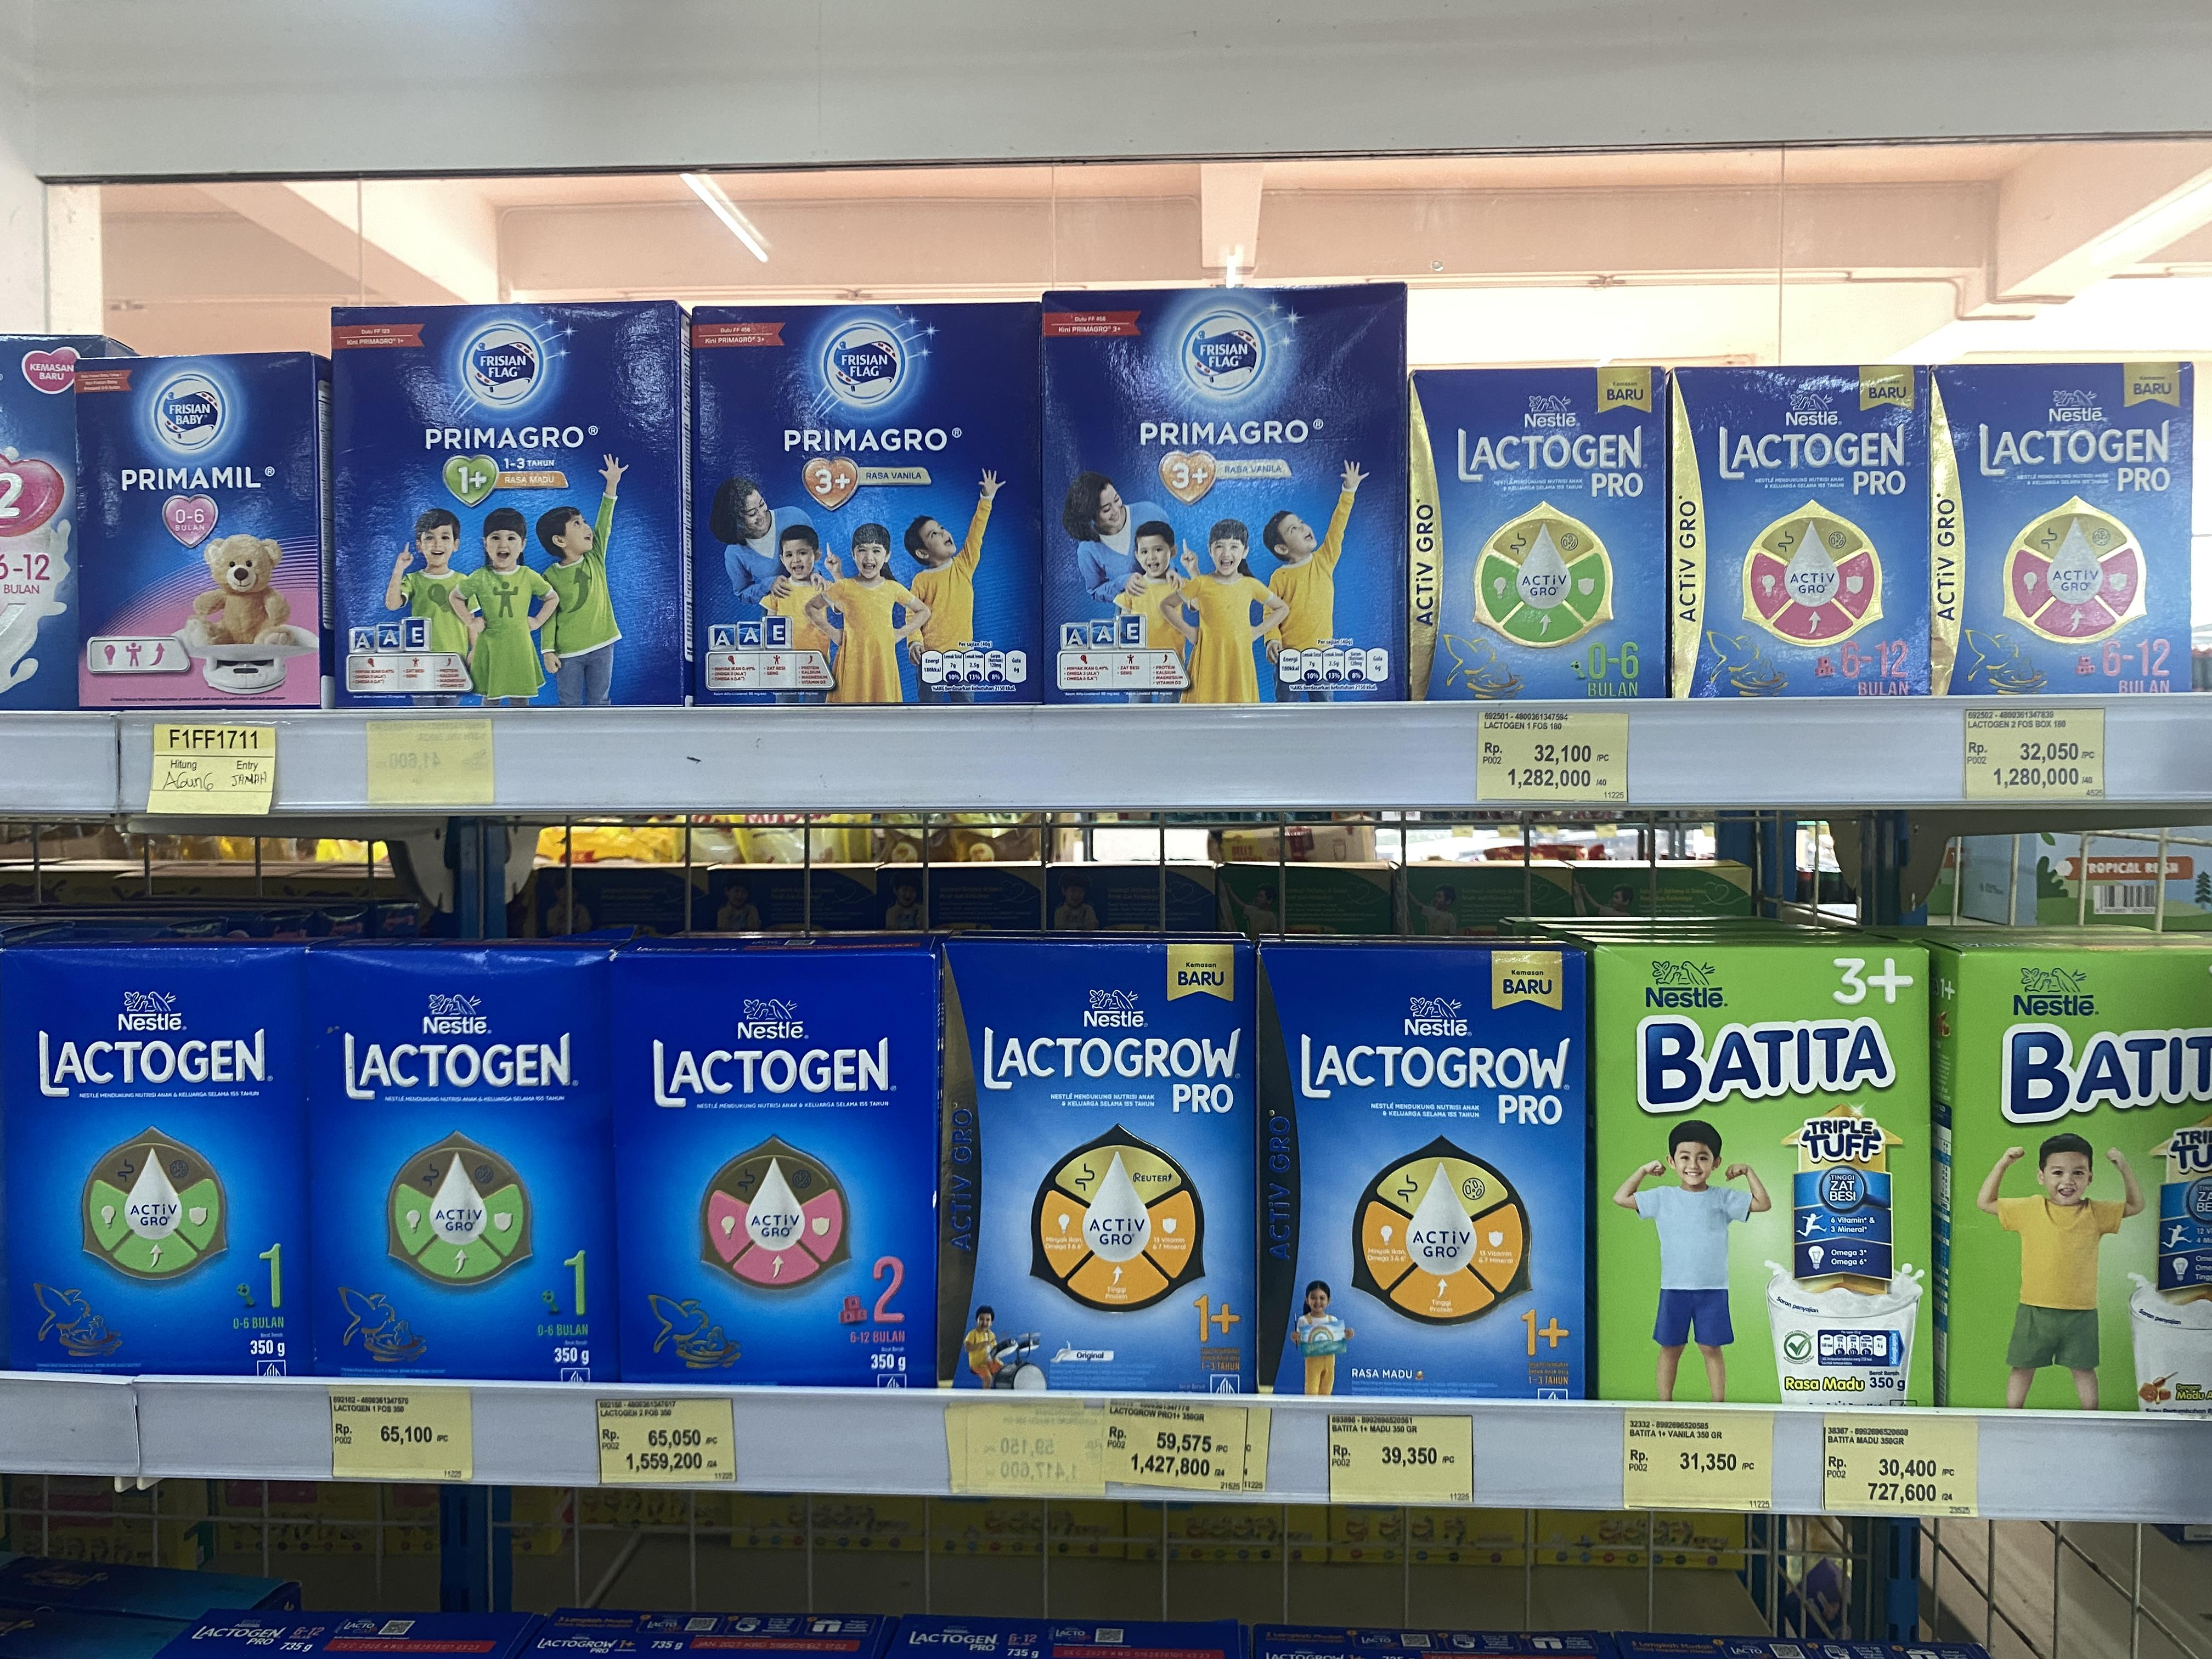LACTOGEN 1 Happynutri 12x750g N1 ID_REDESIGN2: (300, 955, 610, 1378)
LACTOGEN 2 Happynutri 24x350g N1 ID_REDESIGN2: (1409, 366, 1672, 708)
LACTOGEN PRO 0-6 mo 12x735g ID: (1926, 362, 2202, 701), (1669, 362, 1923, 706)
LACTOGROW 3 Happynutri Honey 12x750g N1 ID_REDESIGN2: (1258, 948, 1588, 1403)
